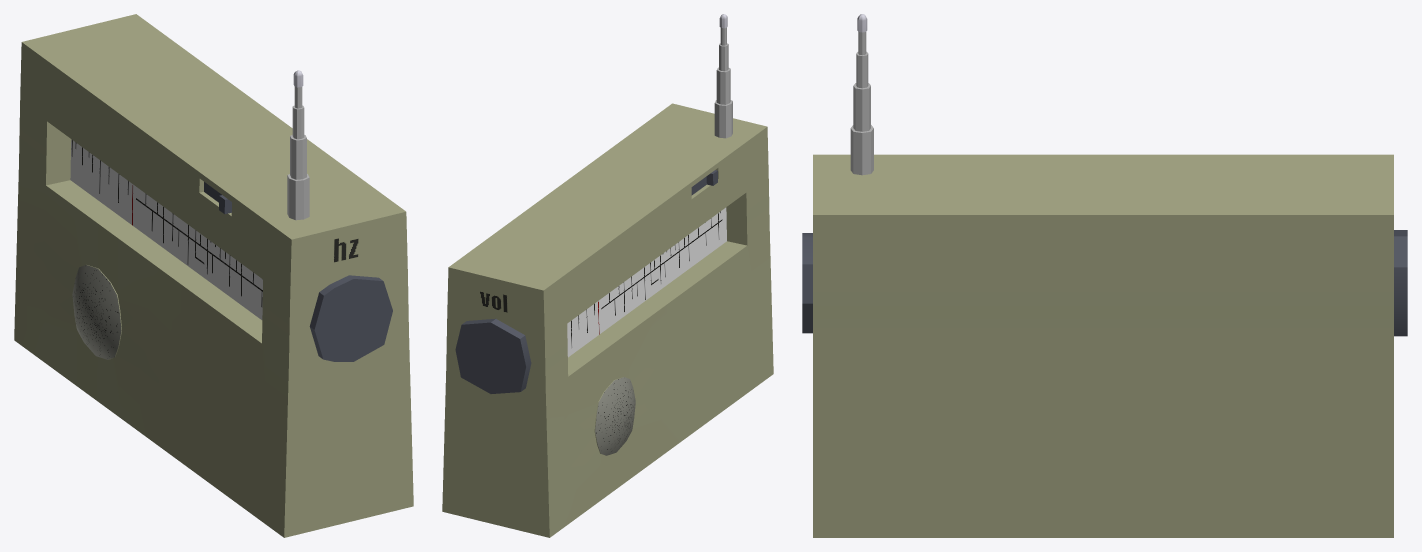
Rendered from radio.fbx.
3 views of the same model, side by side, from view 1: azimuth 30°, elevation 25°; view 2: azimuth 150°, elevation 25°; view 3: azimuth 270°, elevation 25° (orthographic). The views are drawn at different scales.
Visible parts, largest first — view 1: pCube1; view 2: pCube1; view 3: pCube1.
Part boxes in pixels (<box>): pCube1: <box>14,14,413,537</box>; pCube1: <box>442,14,773,537</box>; pCube1: <box>802,14,1407,537</box>.
Size of the model in its own units: 1.2 by 3.68 by 4.24.
